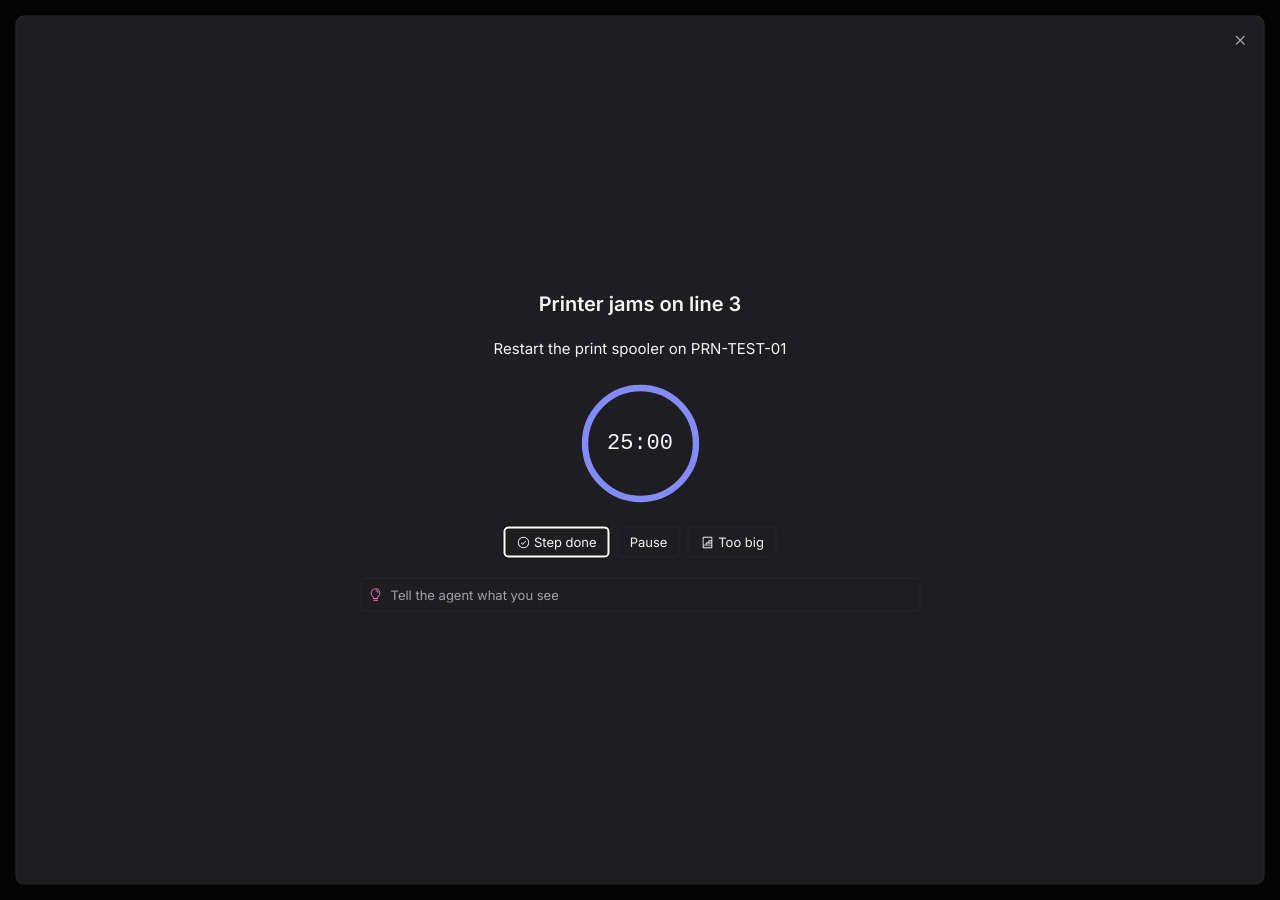
it: FocusSession › test a 501 keeps the text and shows the detail
This screenshot has width=1280, height=900.
Type "saw E-12" into the field labelled "Tell the agent what you see" at (651, 595), box [390,578,911,611]
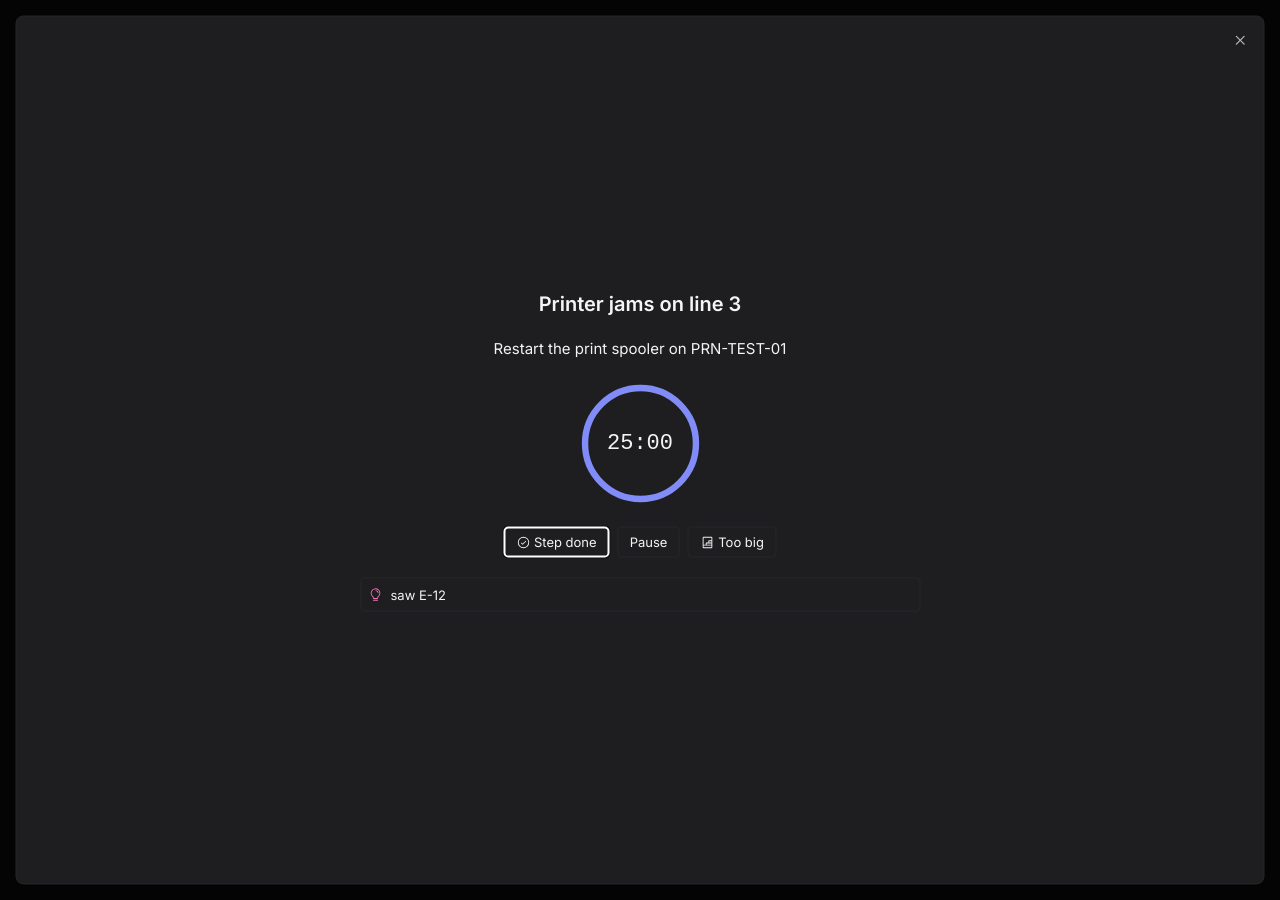
Press Enter in the field named "Tell the agent what you see", box [390,578,911,611]
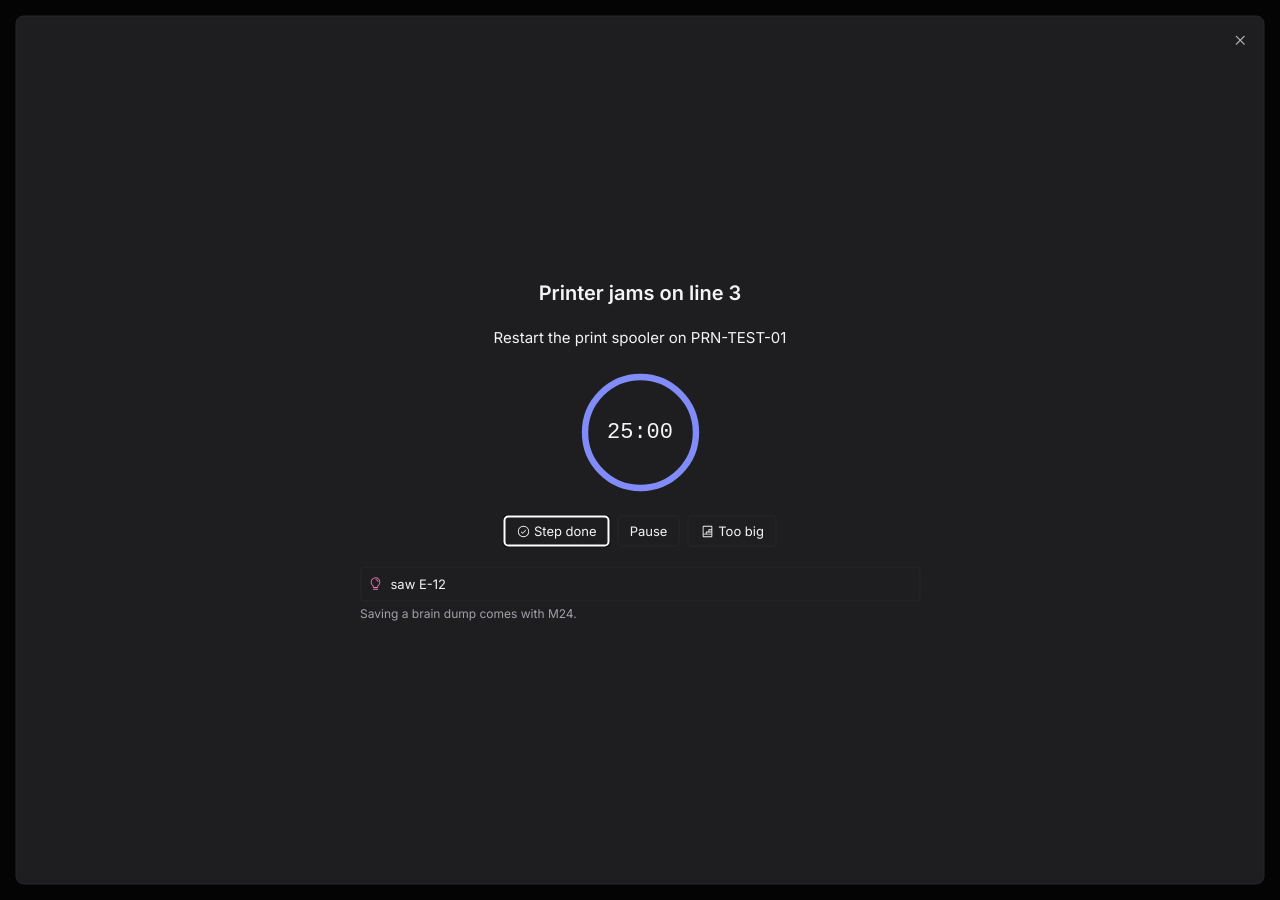
Expected: the text "Saving a brain dump comes with M24." is shown, [360,606,577,621]
